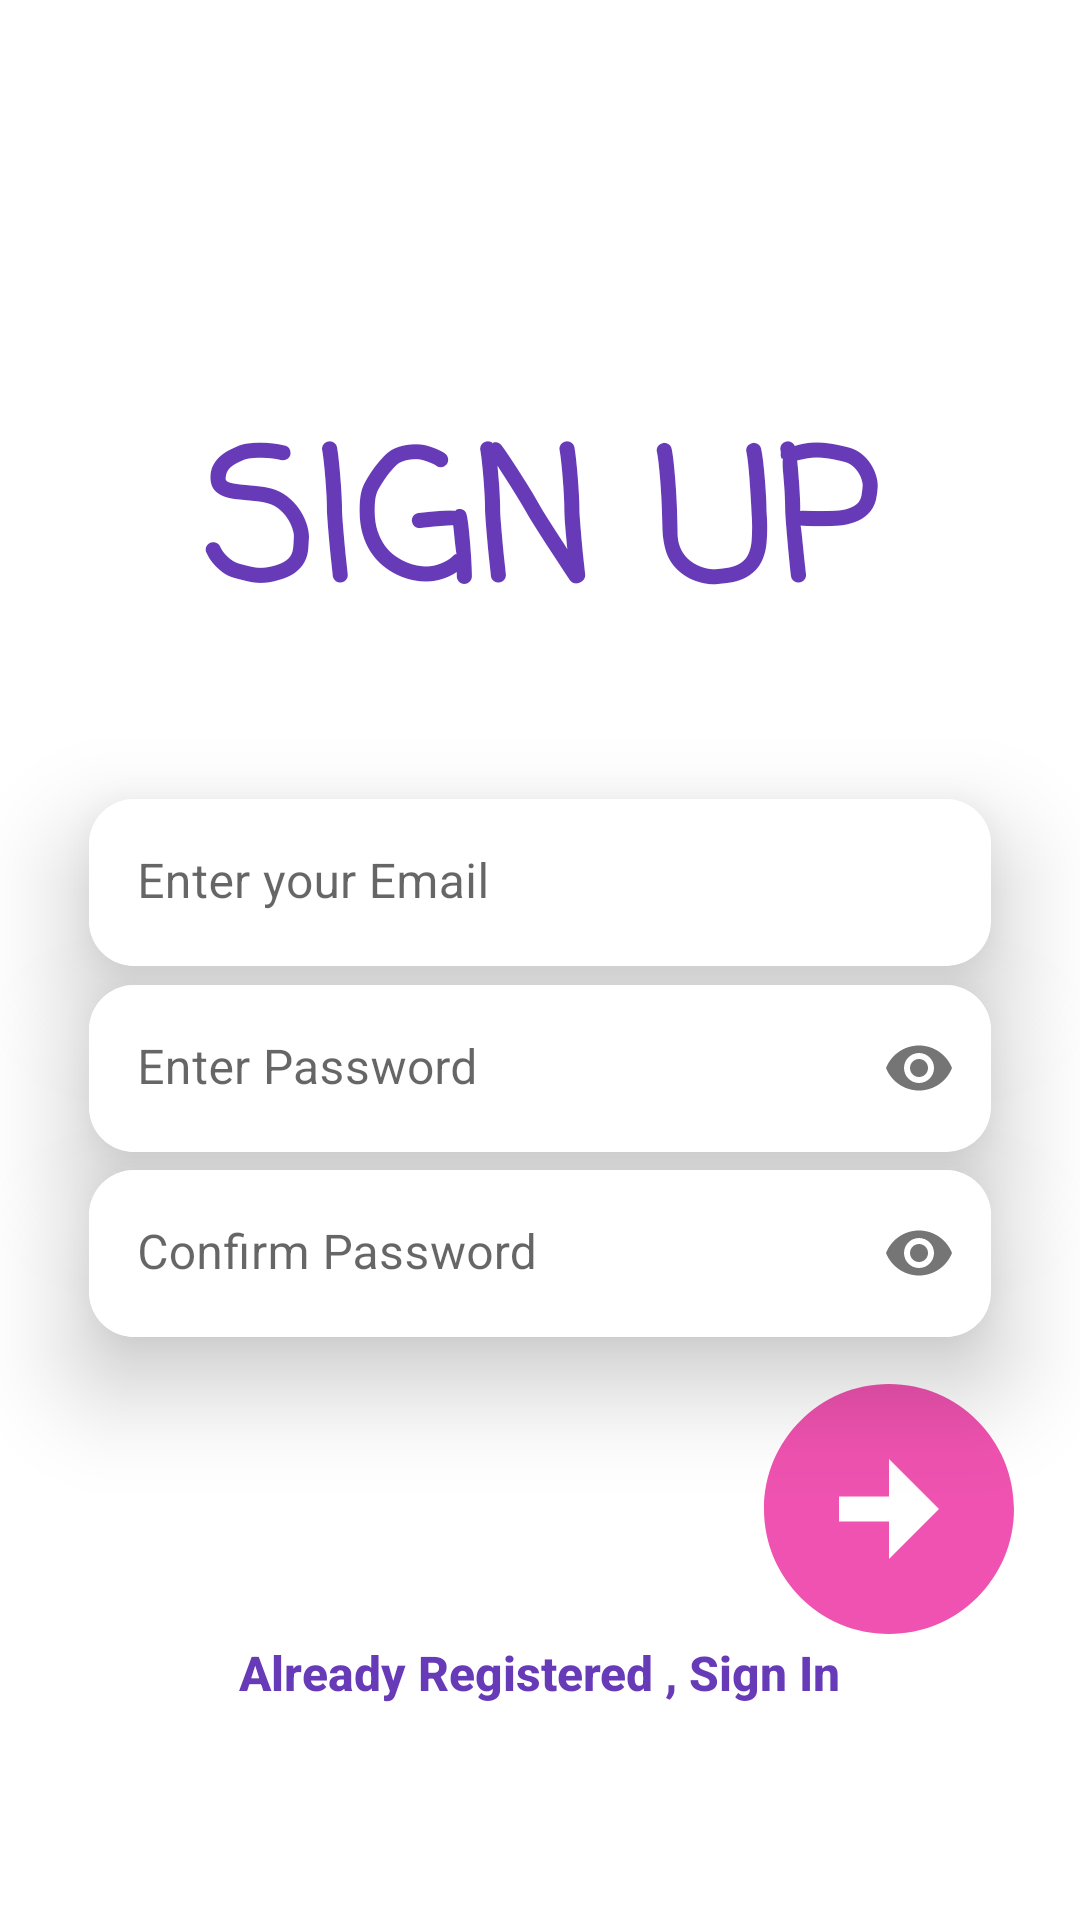

Icons on this 1080 × 1920 Android screen, each with the point to tap as (x=x, y=y):
arrow circle right: (x=876, y=1509)
